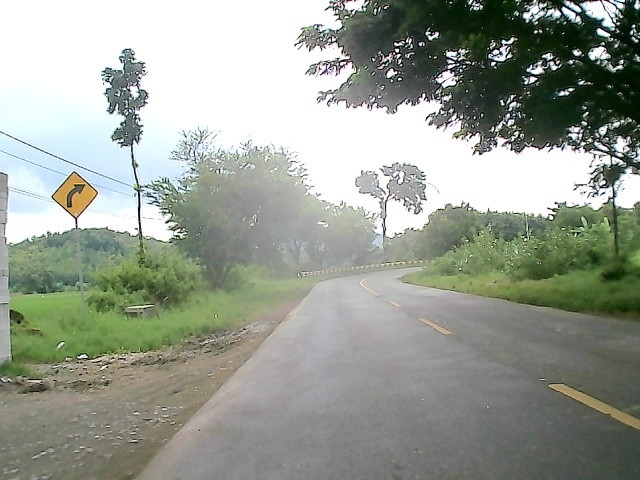Tikungan ke kanan: (46, 171, 101, 221)
